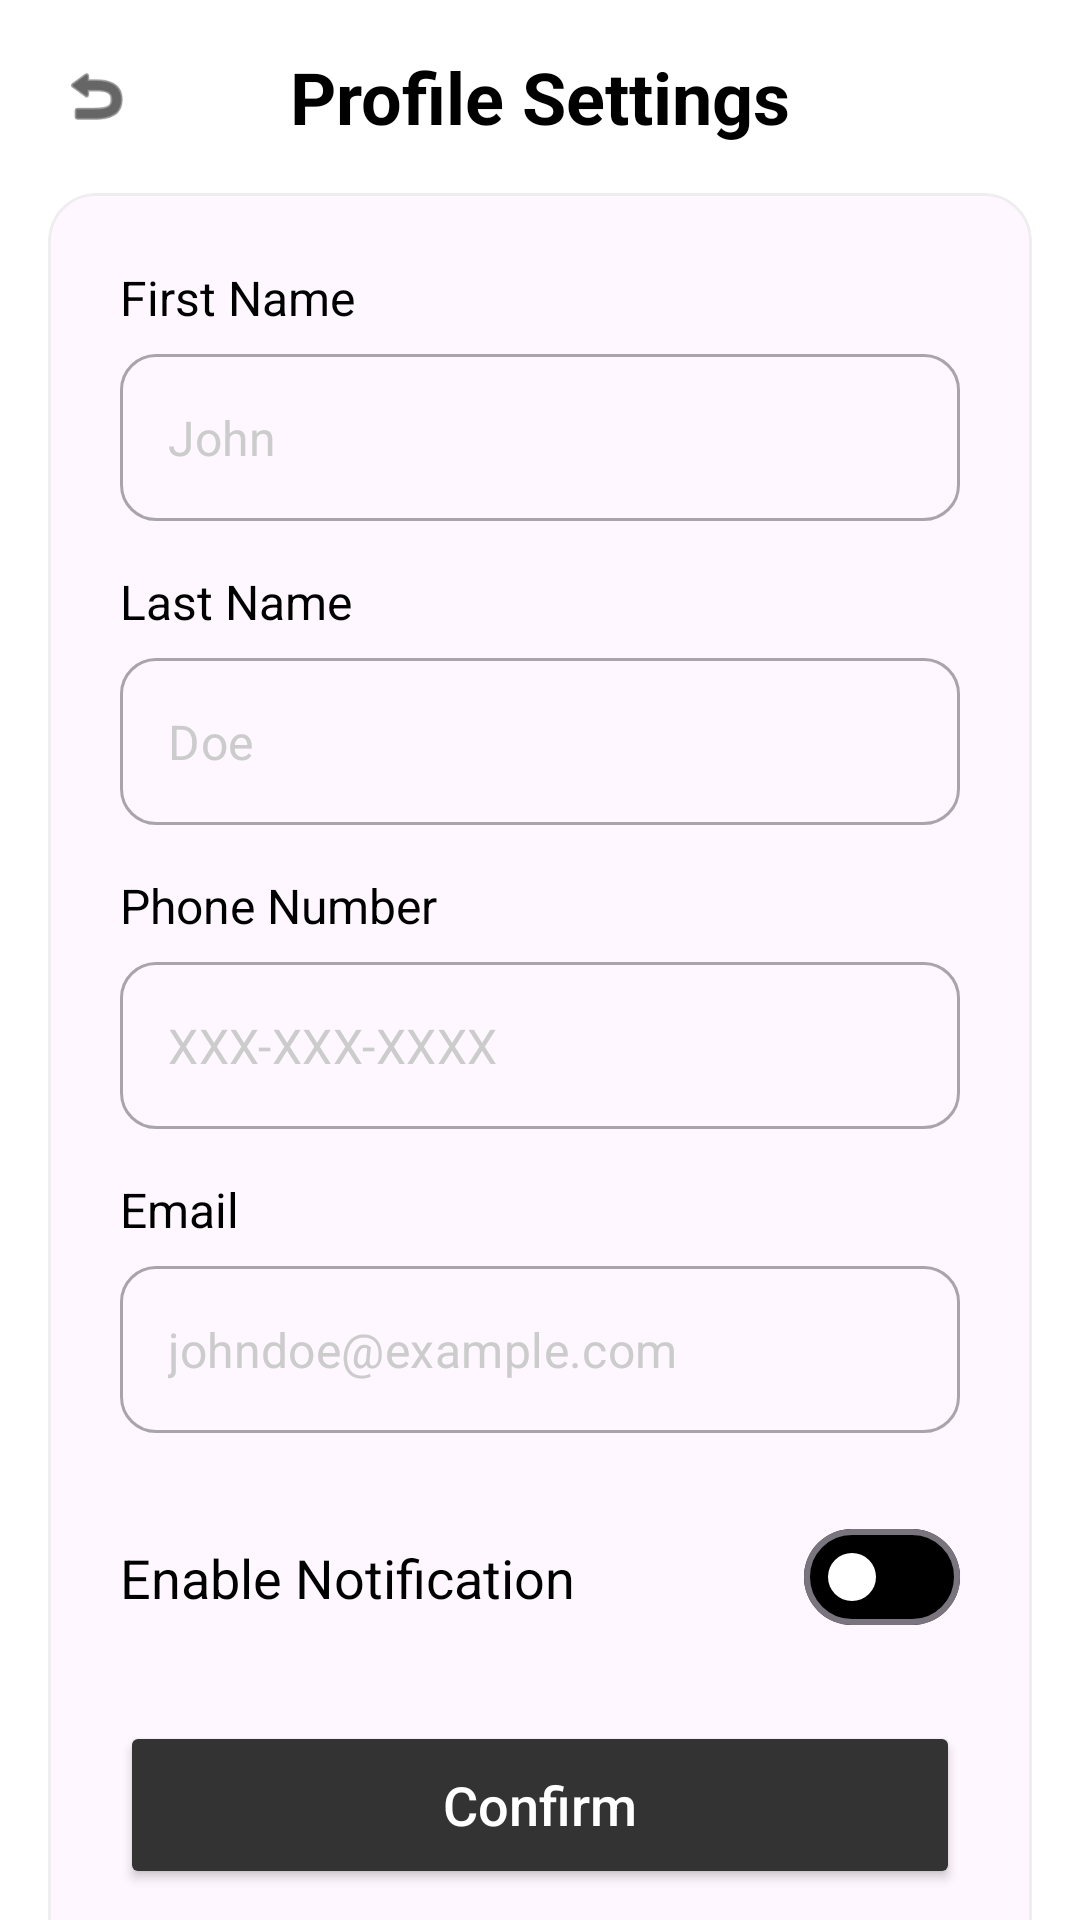

Where icons sit on this 1080 x 1920 app screen, as {"left": x1, "top": y1, "right": x2, "bottom": y2}:
revert: {"left": 71, "top": 73, "right": 123, "bottom": 120}
